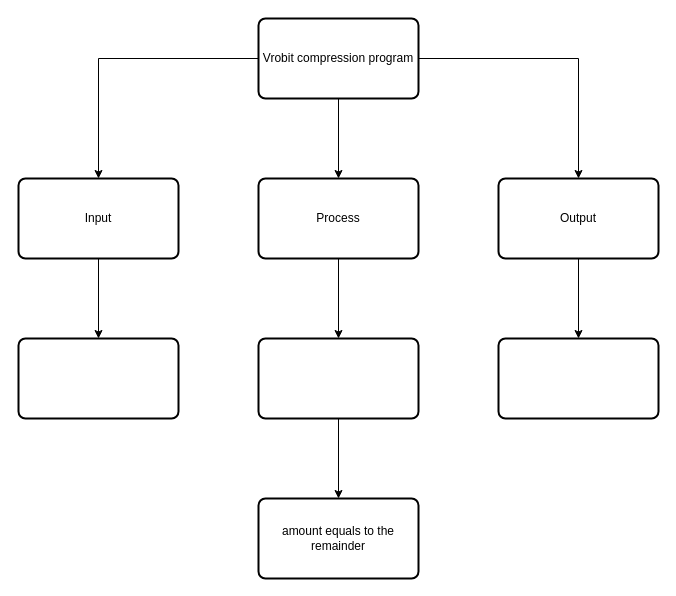
This 676x596 diagram has some shape labels left out. Each missing label, with the box of its shape:
Add coin count by the amount integer divided by the coin value: (257, 337, 419, 419)
Get user's vrobits amount: (17, 337, 179, 419)
Print all used coins: (497, 337, 659, 419)
